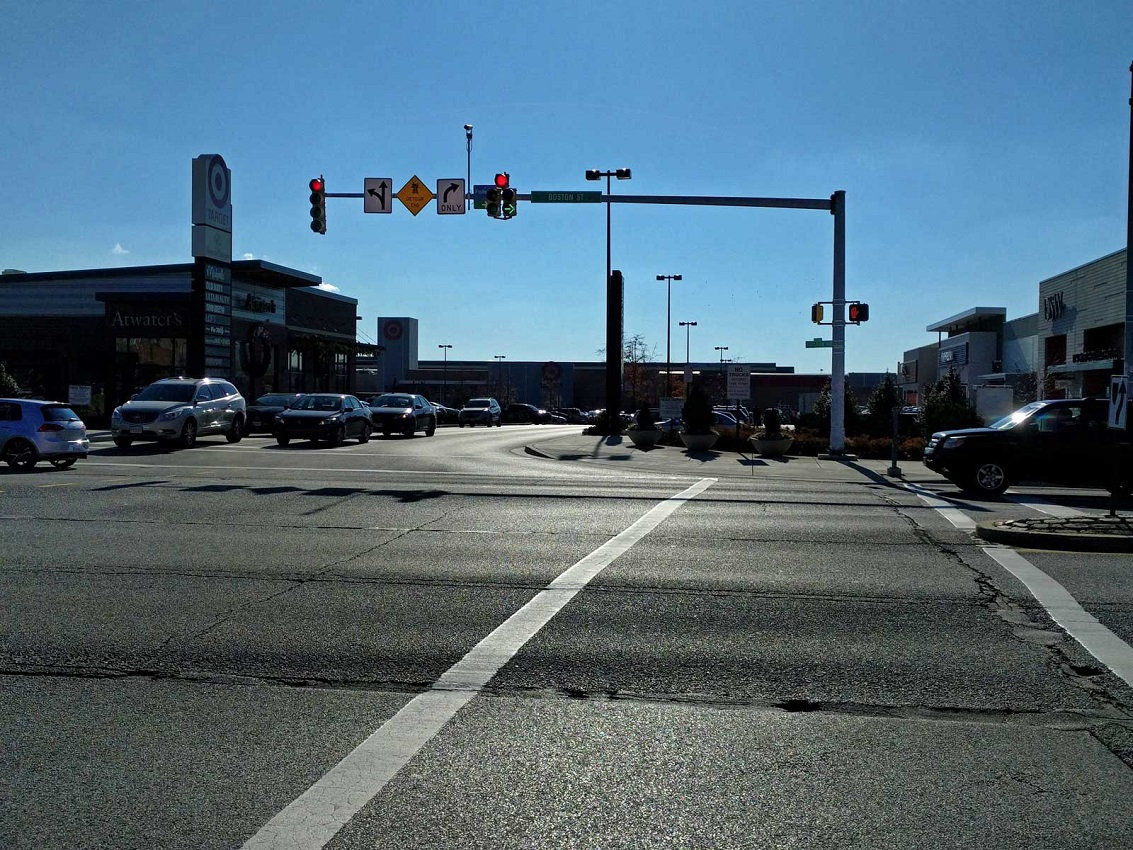traffic_light: (484, 170, 520, 222), (307, 173, 330, 237)
